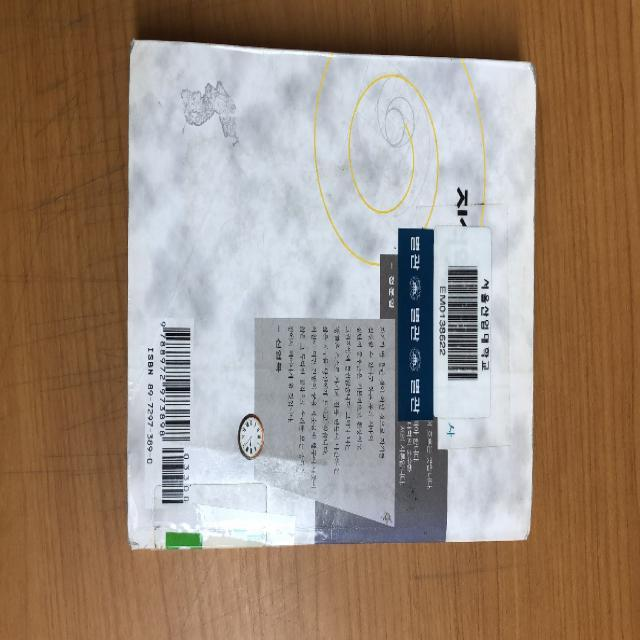Ripped: (122, 522, 151, 556)
Wornout: (518, 56, 542, 115), (124, 34, 141, 75), (516, 514, 537, 543)
